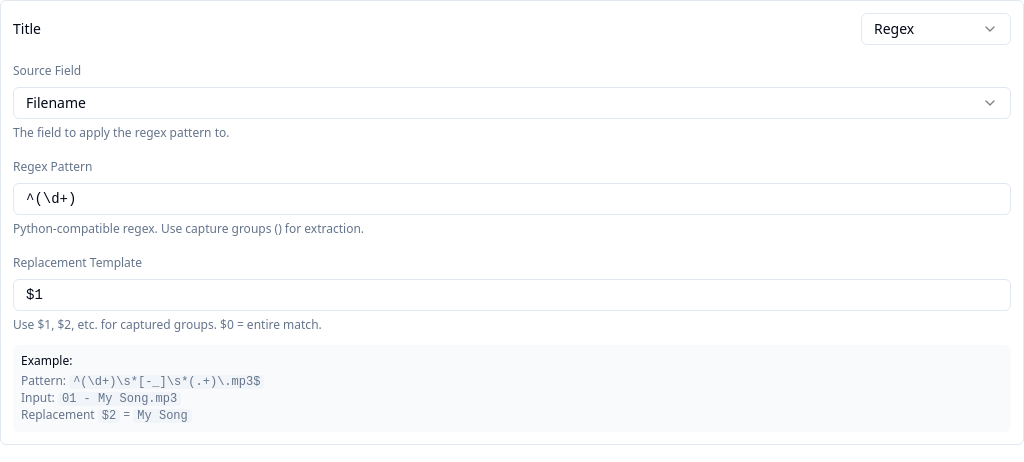
Test: TagFieldConfig › Regex mode inputs › should show source field selector with all options
# Find the source field selector (second combobox after mode selector)
Click the dropdown labelled "Filename" at (56, 102), box [13,87,1011,119]
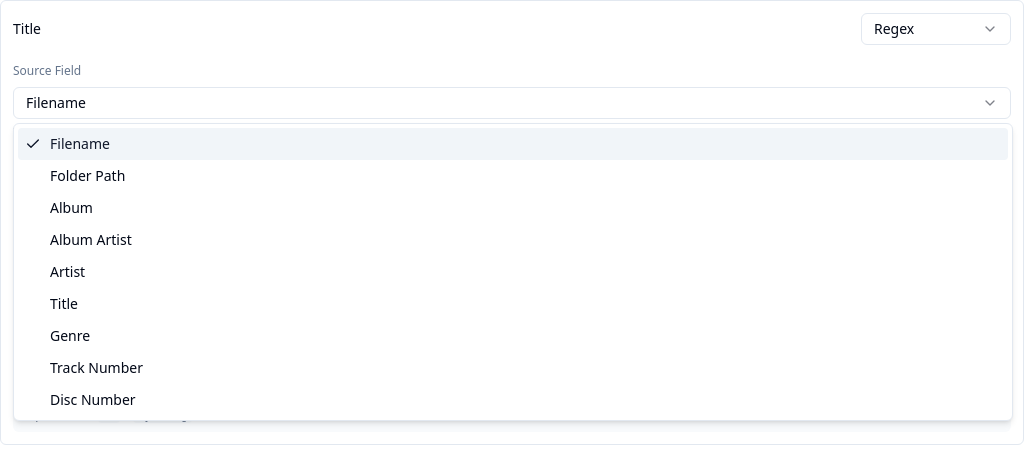
Check: the option "Filename" is shown, box [18,128,1008,160]
Check: the option "Album" is shown, box [50,198,93,217]
Check: the option "Artist" is shown, box [50,262,85,281]
